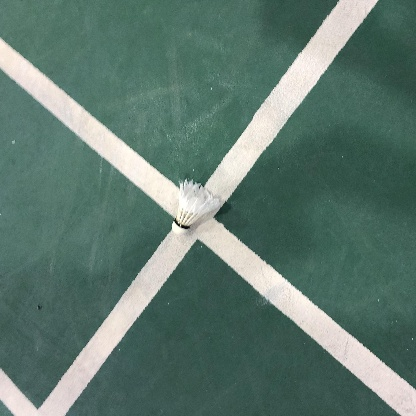ball_single: (172, 178, 220, 235)
